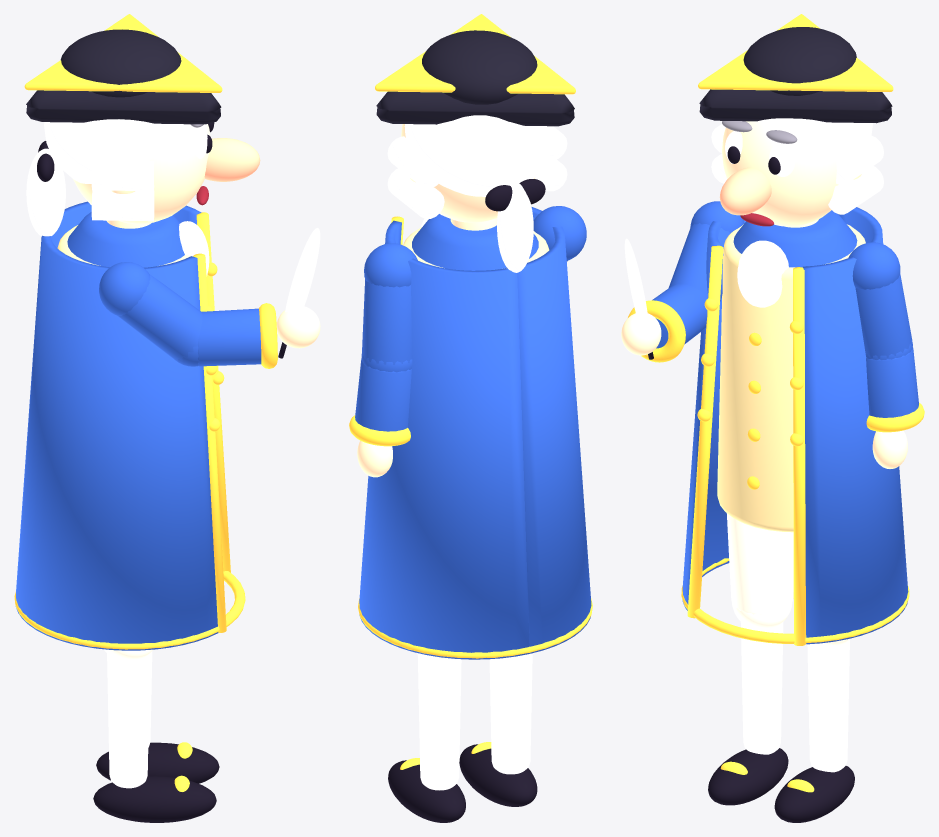
Rendered from hancock.glb.
The picture shows the model from 3 angles, left to right: view 1: azimuth 30°, elevation 25°; view 2: azimuth 150°, elevation 25°; view 3: azimuth 270°, elevation 25°; orthographic projection. The views are drawn at different scales.
Visible parts, largest first — view 1: RH_Rock.001, RH_Hut.001, RH_Peruecke.001, RH_HutKopf.001, KR_UnterschenkelR.001, RH_Kragen.001, RH_SchuhR.001, RHancock_Kopf.001, KR_OberarmR.001, RH_HutBorte.001, KR_UnterarmR.001, RH_BorteR.001 (+13 smaller); view 2: RH_Rock2.001, RH_Rock.001, RH_Peruecke.001, RH_HutKopf.001, KR_UnterschenkelL.001, RH_Hut.001, KR_UnterschenkelR.001, RH_Kragen.001, KR_OberarmL.001, RH_HutBorte.001, KR_UnterarmL.001, RH_SchuhR.001 (+14 smaller); view 3: RH_Rock2.001, RH_Weste.001, RHancock_Kopf.001, RH_Hut.001, KR_OberschenkelR.001, RH_HutKopf.001, KR_UnterschenkelL.001, RH_Rock.001, KR_UnterschenkelR.001, RH_BorteR.001, RH_BorteL.001, RH_Kragen.001 (+22 smaller).
Part boxes in pixels (left/top/right/bottom): RH_Rock.001: left=15, top=235, right=218, bottom=650; RH_Hut.001: left=26, top=90, right=221, bottom=124; RH_Peruecke.001: left=44, top=119, right=174, bottom=183; RH_HutKopf.001: left=60, top=29, right=181, bottom=97; KR_UnterschenkelR.001: left=107, top=653, right=150, bottom=788; RH_Kragen.001: left=67, top=212, right=184, bottom=267; RH_SchuhR.001: left=93, top=776, right=216, bottom=822; RHancock_Kopf.001: left=72, top=124, right=210, bottom=224; KR_OberarmR.001: left=117, top=274, right=202, bottom=361; RH_HutBorte.001: left=24, top=14, right=222, bottom=92; KR_UnterarmR.001: left=198, top=308, right=261, bottom=366; RH_BorteR.001: left=193, top=253, right=226, bottom=632; RH_Rock2.001: left=359, top=220, right=529, bottom=659; RH_Rock.001: left=517, top=207, right=591, bottom=653; RH_Peruecke.001: left=404, top=115, right=554, bottom=196; RH_HutKopf.001: left=422, top=30, right=537, bottom=104; KR_UnterschenkelL.001: left=417, top=653, right=461, bottom=790; RH_Hut.001: left=376, top=91, right=574, bottom=126; KR_UnterschenkelR.001: left=489, top=653, right=532, bottom=774; RH_Kragen.001: left=412, top=214, right=538, bottom=270; KR_OberarmL.001: left=362, top=279, right=411, bottom=364; RH_HutBorte.001: left=375, top=14, right=575, bottom=94; KR_UnterarmL.001: left=355, top=358, right=411, bottom=431; RH_SchuhR.001: left=459, top=744, right=537, bottom=806; RH_Rock2.001: left=802, top=207, right=908, bottom=644; RH_Weste.001: left=717, top=224, right=865, bottom=532; RHancock_Kopf.001: left=722, top=118, right=838, bottom=226; RH_Hut.001: left=699, top=89, right=892, bottom=123; KR_OberschenkelR.001: left=726, top=513, right=793, bottom=614; RH_HutKopf.001: left=743, top=27, right=856, bottom=95; KR_UnterschenkelL.001: left=807, top=639, right=849, bottom=772; RH_Rock.001: left=682, top=220, right=745, bottom=610; KR_UnterschenkelR.001: left=740, top=622, right=783, bottom=754; RH_BorteR.001: left=687, top=245, right=723, bottom=618; RH_BorteL.001: left=793, top=267, right=805, bottom=645; RH_Kragen.001: left=733, top=210, right=857, bottom=267.
Bounding box in the file's own units: 0.5522 × 1.91 × 0.6957.
